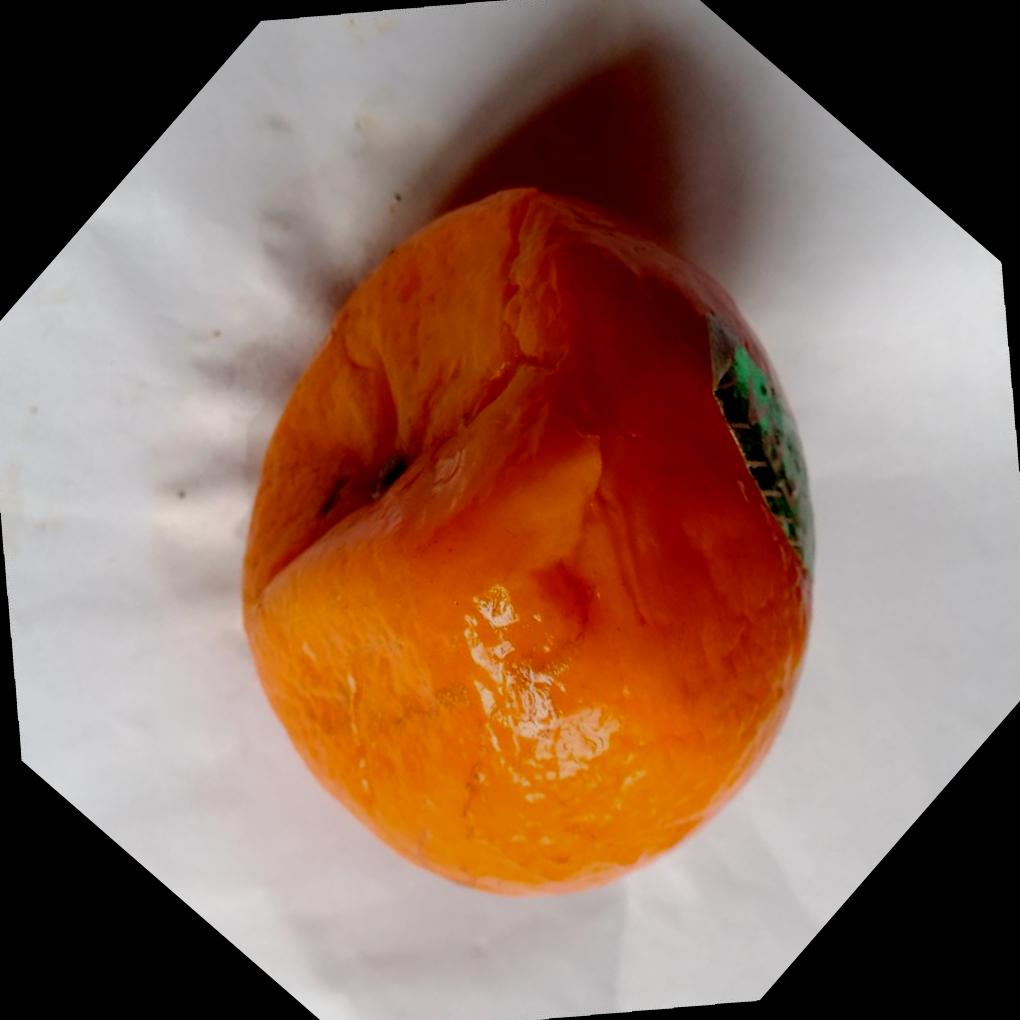FreshOrange: (237, 179, 818, 899)
